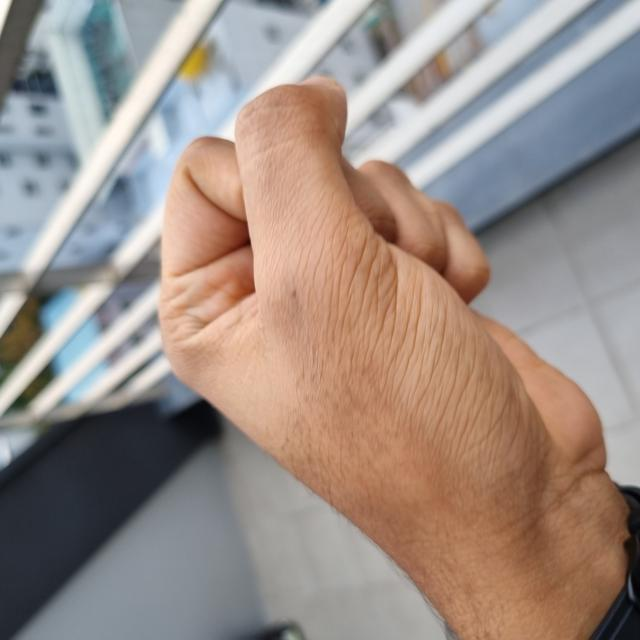Rock: (25, 157, 558, 593)
